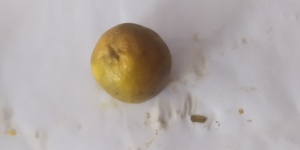BAD: (91, 24, 172, 105)
